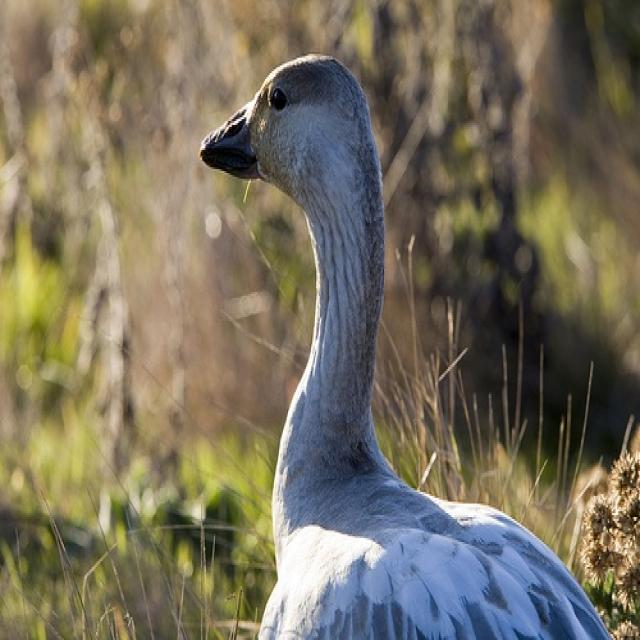bird: (196, 56, 618, 638)
